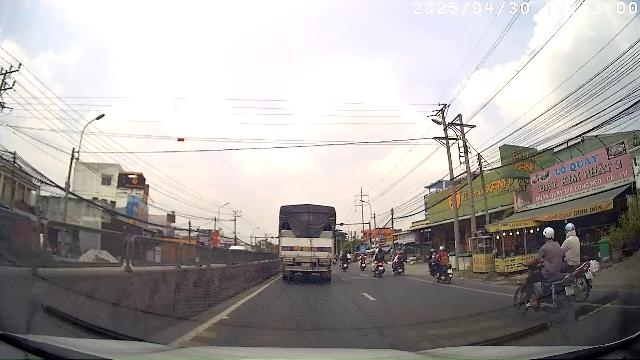423a-duong-nguoi-di-bo-sang-ngang-1: (360, 245, 366, 252)
